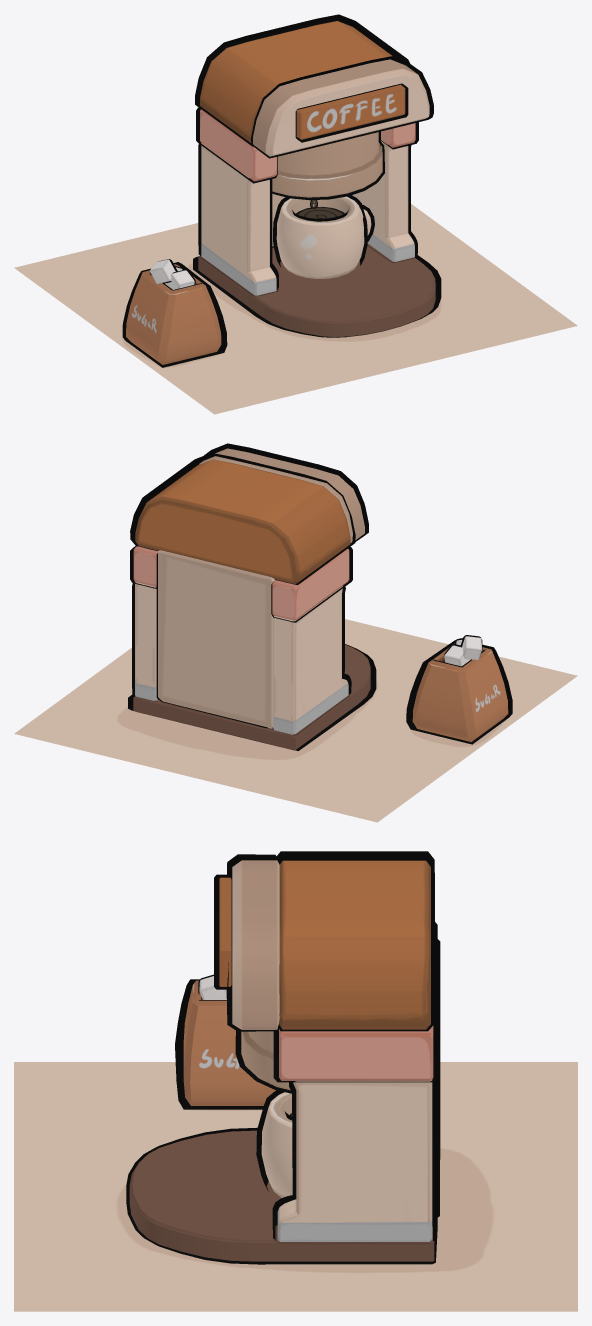
The model's file is coffee_machine.glb.
3 views of the same model, one above another, from view 1: azimuth 30°, elevation 25°; view 2: azimuth 150°, elevation 25°; view 3: azimuth 270°, elevation 25° (orthographic). The views are drawn at different scales.
Parts seen in each view (by area): view 1: Coffe_machine, plan, Sugar_container (×2), Coffe, polySurface4, polySurface5, polySurface10, Coffe1, polySurface9, polySurface11, polySurface6; view 2: Coffe_machine, plan, Sugar_container (×2), polySurface4, polySurface5, polySurface10; view 3: Coffe_machine, plan, Sugar_container (×2), Coffe, polySurface4, polySurface10, polySurface2, polySurface7, polySurface5, polySurface3, polySurface11, Coffe1.
Boxes of the visible parts, box(x1,y1,x2,y2) form: Coffe_machine: box(198, 21, 435, 337); plan: box(14, 204, 577, 414); Sugar_container (×2): box(122, 262, 227, 367); Coffe: box(276, 196, 371, 278); polySurface4: box(195, 14, 409, 146); polySurface5: box(251, 56, 433, 158); polySurface10: box(193, 255, 441, 337); Coffe1: box(273, 195, 374, 267); polySurface9: box(198, 141, 278, 289); polySurface11: box(295, 83, 408, 142); polySurface6: box(272, 131, 384, 200); Coffe_machine: box(133, 448, 370, 750); plan: box(14, 619, 577, 822); Sugar_container (×2): box(406, 639, 512, 744); polySurface4: box(130, 453, 355, 585); polySurface5: box(200, 443, 368, 541); polySurface10: box(128, 644, 376, 750); Coffe_machine: box(129, 860, 434, 1261); plan: box(14, 1062, 577, 1311); Sugar_container (×2): box(175, 979, 275, 1109); Coffe: box(261, 1092, 292, 1197); polySurface4: box(274, 851, 434, 1031); polySurface10: box(126, 1127, 437, 1264); polySurface2: box(272, 1080, 437, 1240); polySurface7: box(434, 936, 440, 1217); polySurface5: box(226, 854, 279, 1031); polySurface3: box(273, 1017, 438, 1082); polySurface11: box(214, 874, 230, 989); Coffe1: box(256, 1090, 292, 1191).
Size of the model in its own units: 1.59 by 0.9521 by 1.52.
Materials: 5 (4 with a texture image).
